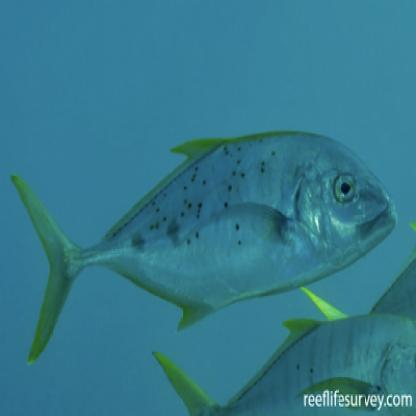jack: (10, 118, 402, 372)
